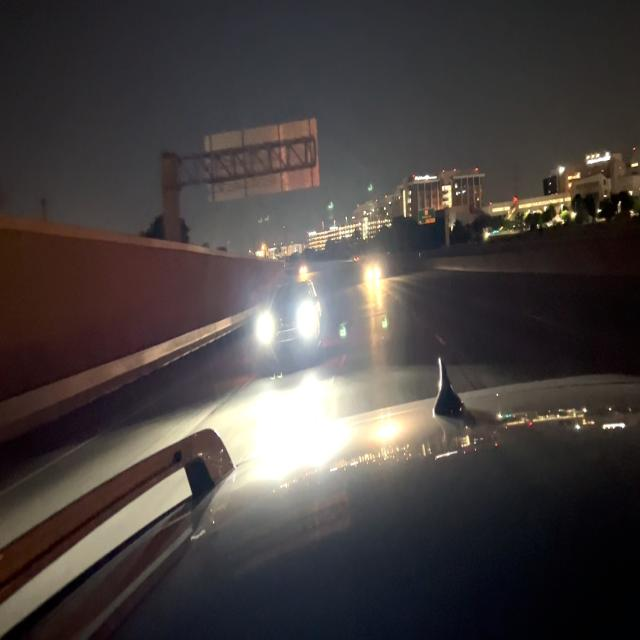back-of-sign: (205, 118, 321, 208)
